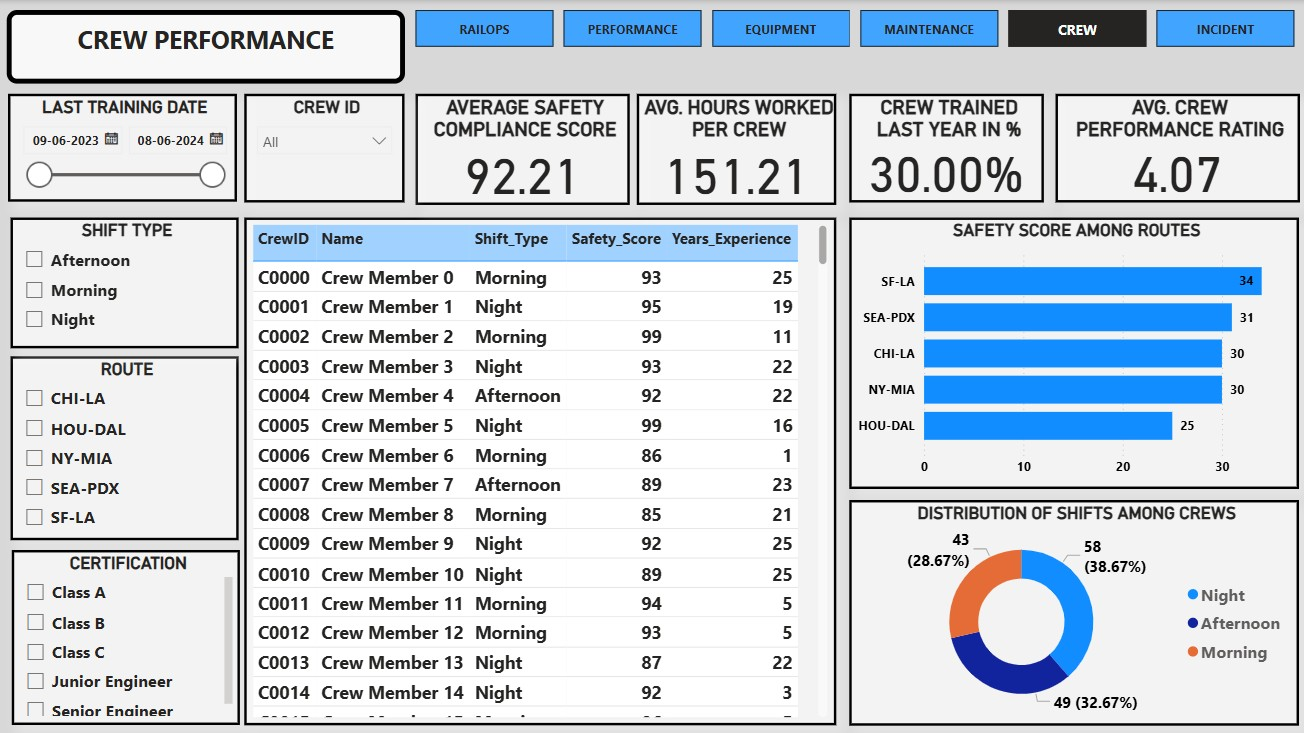

The dashboard page shown, as its layout file describes it:
{"tool":"powerbi","page":{"name":"CREW","canvas":[1280,720],"ordinal":4},"visuals":[{"type":"textbox","box":[8.4,9.7,389.7,72.4],"z":0},{"type":"slicer","title":"ROUTE ","fields":{"Values":["Crew_Data.Route_Assignment"]},"box":[12.1,348.7,223.2,179.8],"z":1000},{"type":"slicer","title":"LAST TRAINING DATE","fields":{"Values":["Crew_Data.Last_Training_Date"]},"box":[9.9,91.9,223.6,105.6],"z":2000},{"type":"slicer","title":"SHIFT TYPE","fields":{"Values":["Crew_Data.Shift_Type"]},"box":[12.1,212.3,223.2,127.9],"z":3000},{"type":"slicer","title":"CERTIFICATION","fields":{"Values":["Crew_Data.Certification"]},"box":[13.3,538.1,223.2,171.3],"z":4000},{"type":"tableEx","fields":{"Values":["Crew_Data.CrewID","Crew_Data.Name","Crew_Data.Shift_Type","Crew_Data.Safety_Score","Crew_Data.Years_Experience"]},"box":[241.3,212.3,579.1,497.1],"z":5000},{"type":"barChart","title":"SAFETY SCORE AMONG ROUTES","fields":{"Category":["Crew_Data.Route_Assignment"],"Y":["Crew_Data.Safety_Score"]},"box":[832.4,212.3,440.4,265.4],"z":6000},{"type":"donutChart","title":"DISTRIBUTION OF SHIFTS AMONG CREWS","fields":{"Category":["Crew_Data.Shift_Type"],"Y":["Crew_Data.CrewID"]},"box":[832.4,488.6,440.4,220.8],"z":7000},{"type":"card","title":"AVERAGE SAFETY COMPLIANCE SCORE","fields":{"Values":["Crew_Data.Average_Safety_Compliance_Score"]},"box":[409,91.7,209.9,108.6],"z":8000},{"type":"card","title":"AVG. HOURS WORKED PER CREW","fields":{"Values":["Crew_Data.Average_Hours_Worked_Per_Crew"]},"box":[624.9,91.7,195.4,108.6],"z":9000},{"type":"card","title":"CREW TRAINED LAST YEAR IN %","fields":{"Values":["Crew_Data.Crew_Trained_Last_Year_Percentage"]},"box":[832.4,91.7,190.6,106.2],"z":10000},{"type":"card","title":"AVG. CREW PERFORMANCE RATING","fields":{"Values":["Crew_Data.Average_Crew_Performance_Rating"]},"box":[1033.9,91.7,238.9,106.2],"z":11000},{"type":"slicer","title":"CREW ID","fields":{"Values":["Crew_Data.CrewID"]},"box":[241.3,91.7,156.8,106.2],"z":12000},{"type":"pageNavigator","box":[408.7,10.2,864,36.4],"z":13000}]}

Visuals, with their boxes in screenshot pixels (x1, y1, x2, y2), scaled from the page's 1280x720 canvas onto the 1304x733 screenshot:
textbox: <box>9,10,406,84</box>
"ROUTE " slicer: <box>12,355,240,538</box>
"LAST TRAINING DATE" slicer: <box>10,94,238,201</box>
"SHIFT TYPE" slicer: <box>12,216,240,346</box>
"CERTIFICATION" slicer: <box>14,548,241,722</box>
tableEx - Crew_Data.CrewID x Crew_Data.Name: <box>246,216,836,722</box>
"SAFETY SCORE AMONG ROUTES" barChart: <box>848,216,1297,486</box>
"DISTRIBUTION OF SHIFTS AMONG CREWS" donutChart: <box>848,497,1297,722</box>
"AVERAGE SAFETY COMPLIANCE SCORE" card: <box>417,93,631,204</box>
"AVG. HOURS WORKED PER CREW" card: <box>637,93,836,204</box>
"CREW TRAINED LAST YEAR IN %" card: <box>848,93,1042,201</box>
"AVG. CREW PERFORMANCE RATING" card: <box>1053,93,1297,201</box>
"CREW ID" slicer: <box>246,93,406,201</box>
pageNavigator: <box>416,10,1297,47</box>
